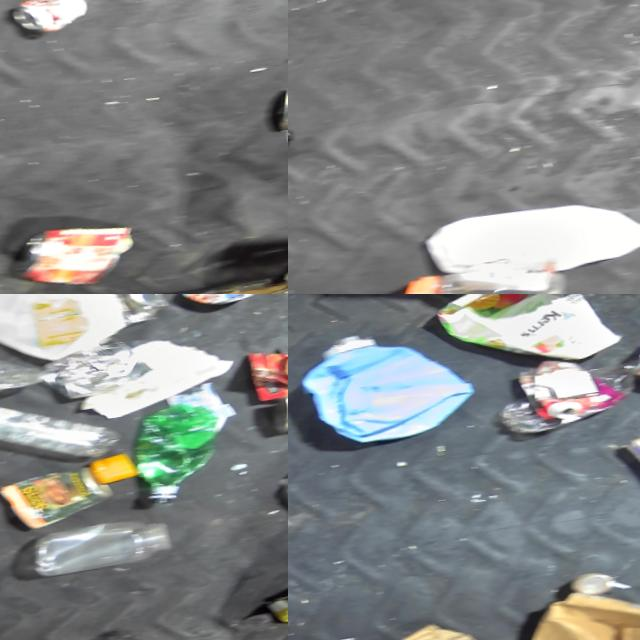can: (6, 216, 141, 294), (0, 462, 116, 534), (5, 0, 96, 39), (103, 294, 170, 328), (166, 294, 270, 312), (566, 568, 618, 599)
milk_jug: (415, 188, 640, 291), (0, 294, 133, 372)
non_white_jug: (291, 318, 482, 454)
plastic_bottle: (0, 380, 128, 479)
